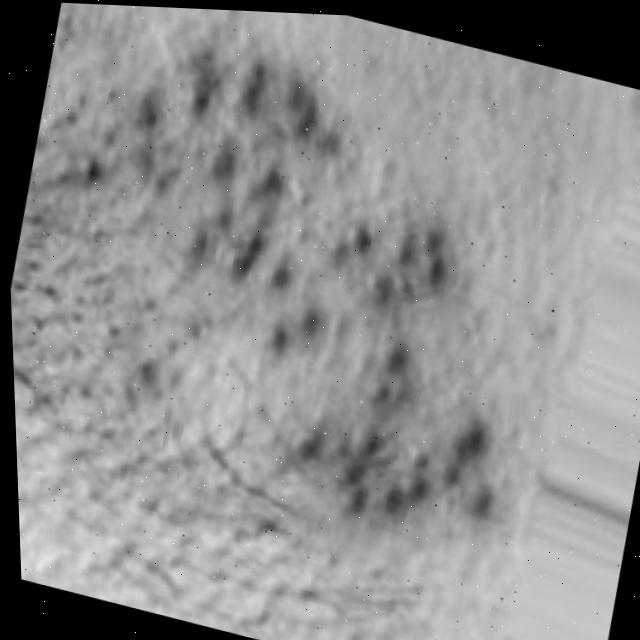Shingles: (44, 25, 583, 561)
